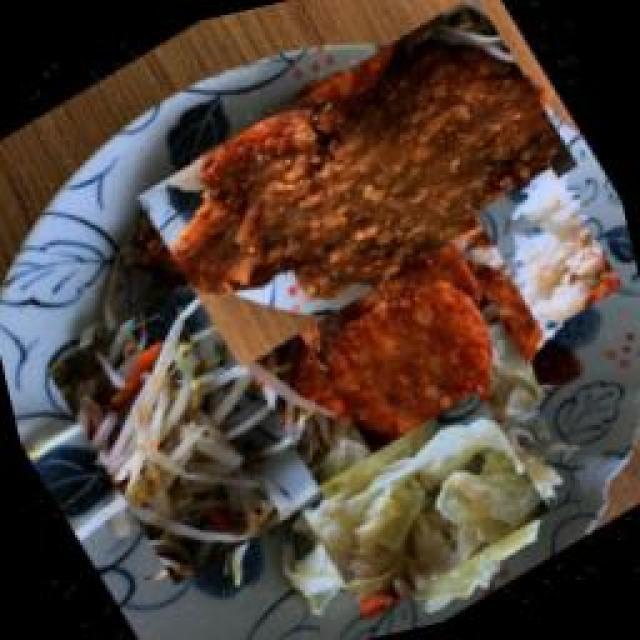Wet Waste: (107, 0, 605, 380), (33, 262, 335, 602), (255, 188, 567, 498), (277, 378, 565, 630), (468, 155, 630, 340)
